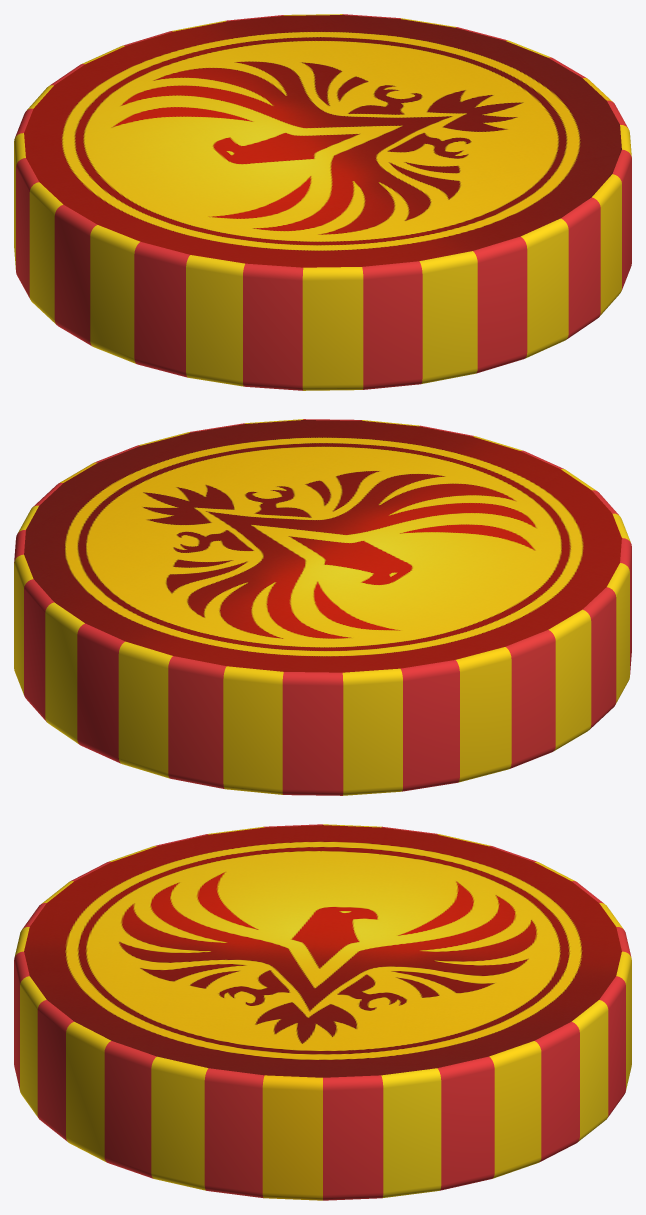
File: FlyingHawkStriker.fbx
3 renders of one model, top to bottom at view 1: azimuth 30°, elevation 25°; view 2: azimuth 150°, elevation 25°; view 3: azimuth 270°, elevation 25°, orthographic.
Parts seen in each view (by area): view 1: DefaultStriker; view 2: DefaultStriker; view 3: DefaultStriker.
Boxes of the visible parts, bbox=[...] form: DefaultStriker: bbox=[14, 14, 631, 390]; DefaultStriker: bbox=[14, 419, 631, 795]; DefaultStriker: bbox=[14, 824, 631, 1200].
Size of the model in its own units: 0.0619 by 0.0135 by 0.0619.
1 material, 1 textured.
